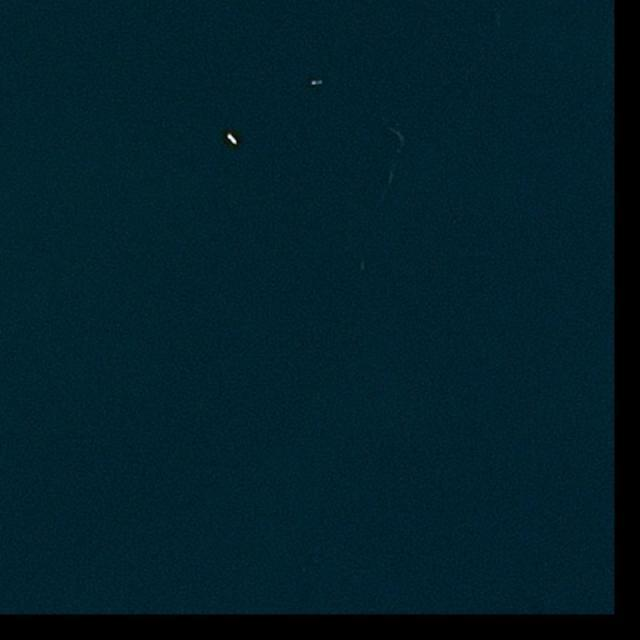ship: (226, 133, 240, 147), (310, 80, 323, 86)
